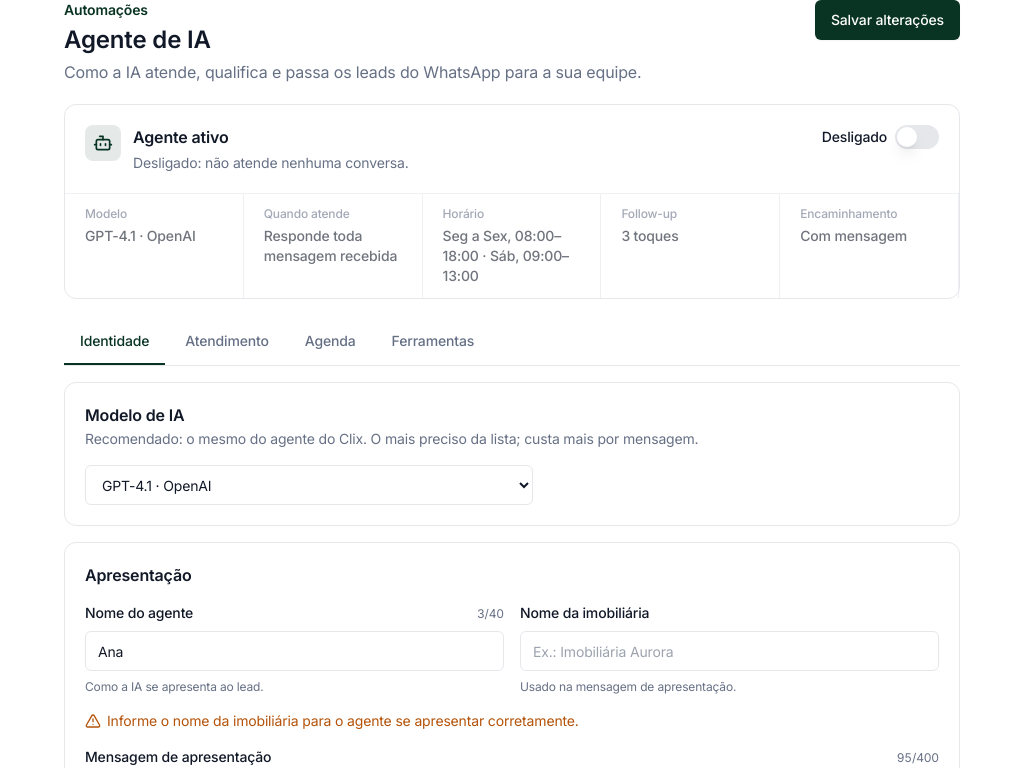
Test: deixa mover o lead no funil mesmo sem fechar a conversa
Click the tab "Atendimento" at (227, 342), box [169,319,285,365]
(page scrolled)
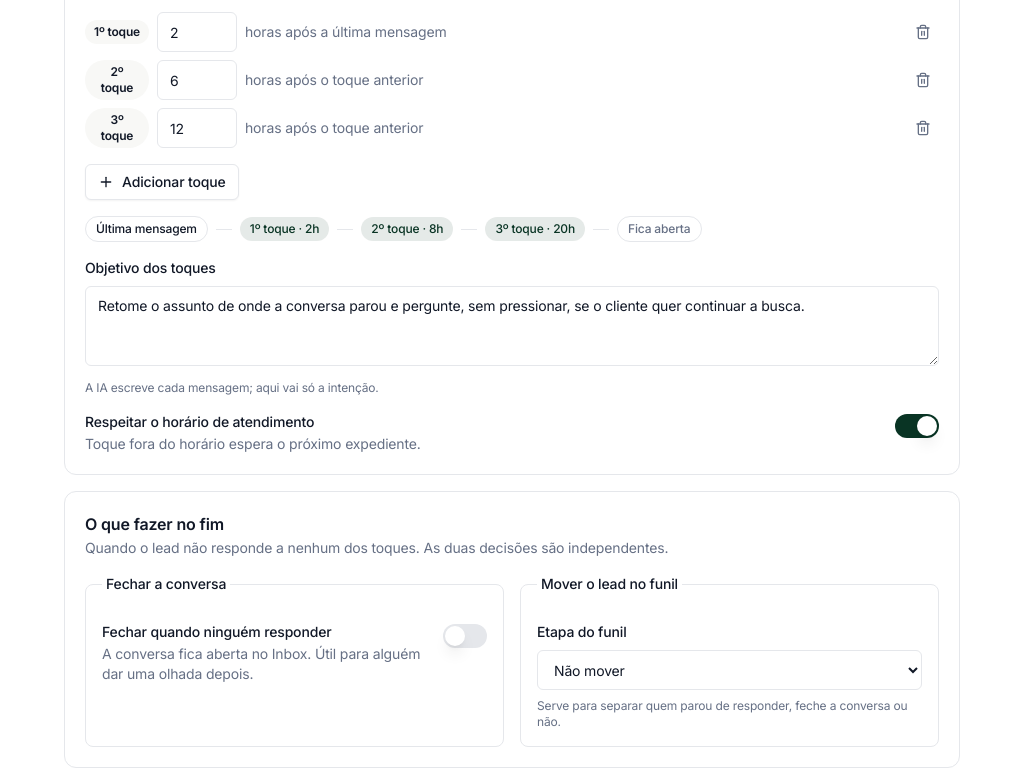
Check: the dropdown labelled "Etapa do funil" is shown, box [537,650,922,690]
